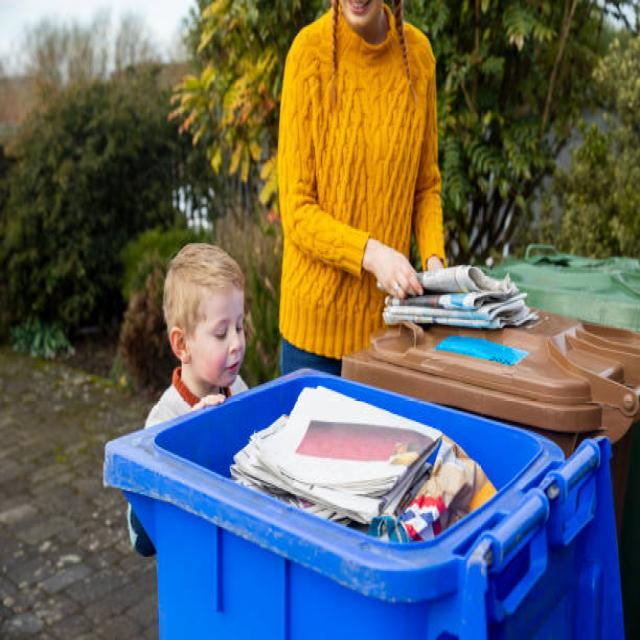paper: (278, 392, 444, 518), (380, 265, 540, 337)
